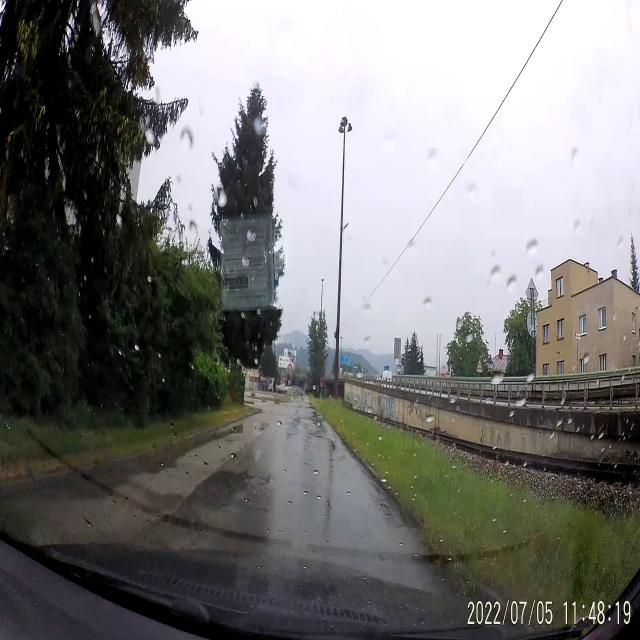Pothole: (372, 498, 395, 522)
